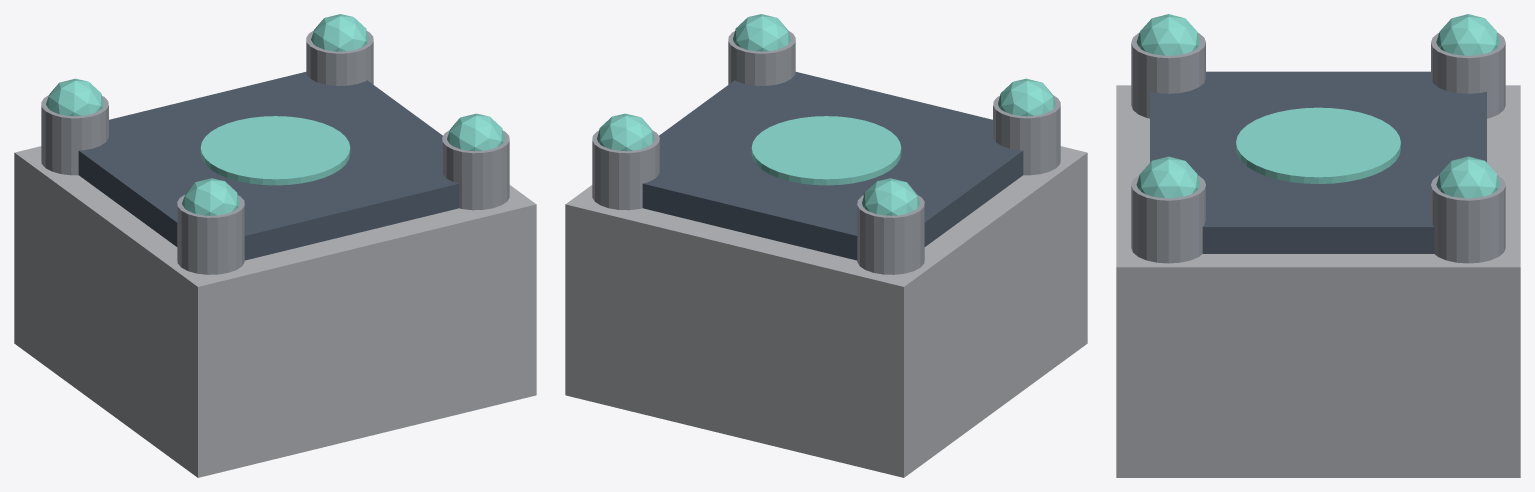
File: auto-aim.glb
3 views of the same model, side by side, from view 1: azimuth 30°, elevation 25°; view 2: azimuth 150°, elevation 25°; view 3: azimuth 270°, elevation 25° (orthographic). The views are drawn at different scales.
Visible parts, largest first — view 1: part000, part001, part002, part005, part009, part003, part007, part008, part010, part004, part006; view 2: part000, part001, part002, part003, part007, part005, part009, part010, part008, part006, part004; view 3: part000, part001, part002, part007, part009, part003, part005, part008, part010, part004, part006.
Part boxes in pixels (box(x1,y1,x2,y2)): part000: box(14, 146, 536, 477); part001: box(78, 72, 459, 260); part002: box(200, 116, 350, 185); part005: box(177, 194, 244, 274); part009: box(442, 130, 509, 210); part003: box(41, 95, 108, 175); part007: box(306, 30, 373, 85); part008: box(311, 14, 368, 51); part010: box(447, 113, 504, 151); part004: box(46, 78, 103, 116); part006: box(182, 178, 239, 215); part000: box(565, 146, 1087, 477); part001: box(642, 72, 1023, 260); part002: box(751, 116, 901, 185); part003: box(857, 194, 924, 274); part007: box(592, 130, 659, 210); part005: box(993, 95, 1060, 175); part009: box(728, 30, 795, 85); part010: box(733, 14, 790, 51); part008: box(597, 113, 654, 151); part006: box(998, 78, 1055, 116); part004: box(862, 178, 919, 215); part000: box(1116, 85, 1520, 477); part001: box(1150, 71, 1486, 253); part002: box(1236, 107, 1400, 183); part007: box(1431, 175, 1505, 263); part009: box(1131, 175, 1205, 263); part003: box(1431, 32, 1505, 118); part005: box(1131, 32, 1205, 118); part008: box(1436, 156, 1500, 198); part010: box(1136, 156, 1200, 198); part004: box(1436, 14, 1500, 55); part006: box(1136, 14, 1200, 55).
Size of the model in its own units: 1.15 by 0.88 by 1.08.
